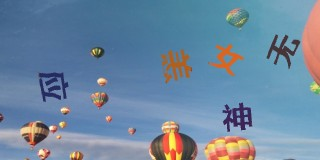女: (209, 44, 244, 77)
应: (37, 71, 69, 102)
无: (266, 34, 300, 69), (160, 48, 193, 84)
神: (221, 100, 253, 133)
